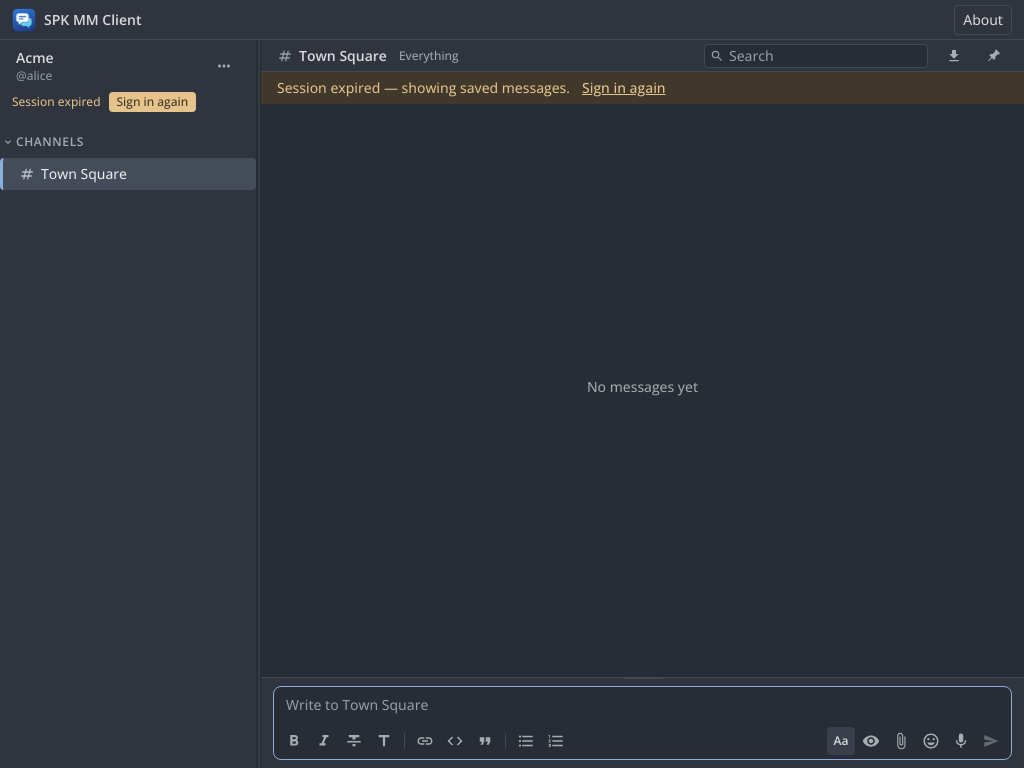
Test: needs_reauth keeps the chat and offers the sign-in form
This screenshot has width=1024, height=768.
Expected: the heading "Town Square" is shown, [277, 46, 387, 66]
Expected: the text "Session expired — showing saved messages." is shown, [277, 78, 570, 97]
Click the button "Sign in again" below "alice": (152, 102) [108, 92, 196, 112]
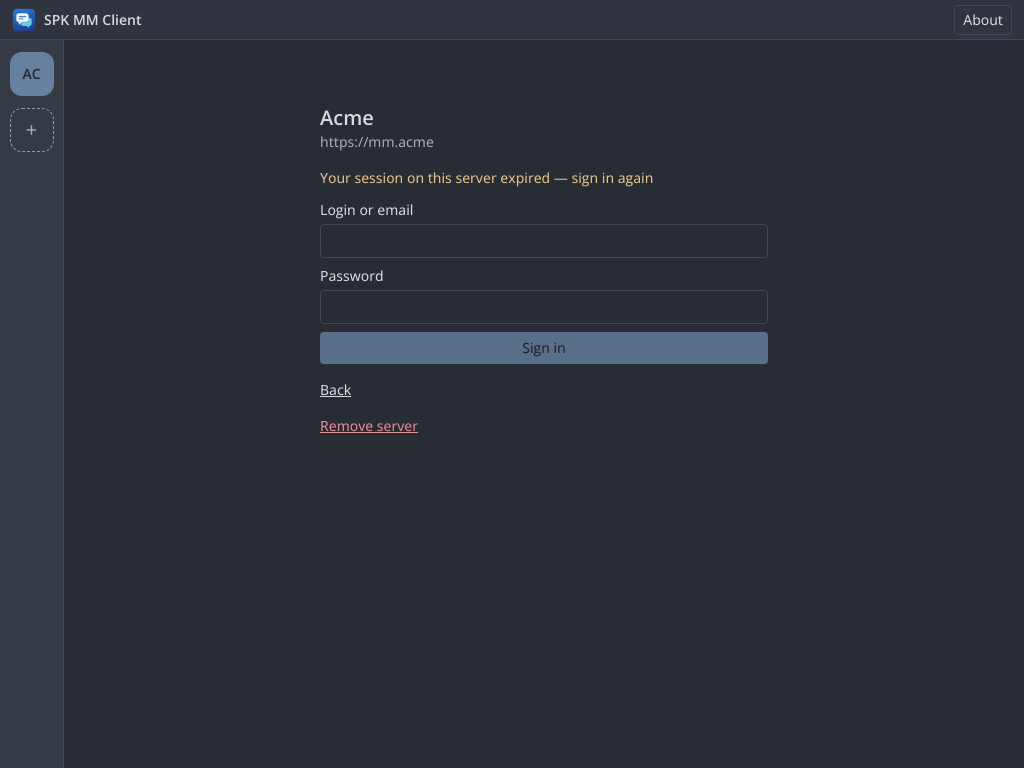
Now the text "Your session on this server expired — sign in again" is shown, box [320, 168, 653, 187]
